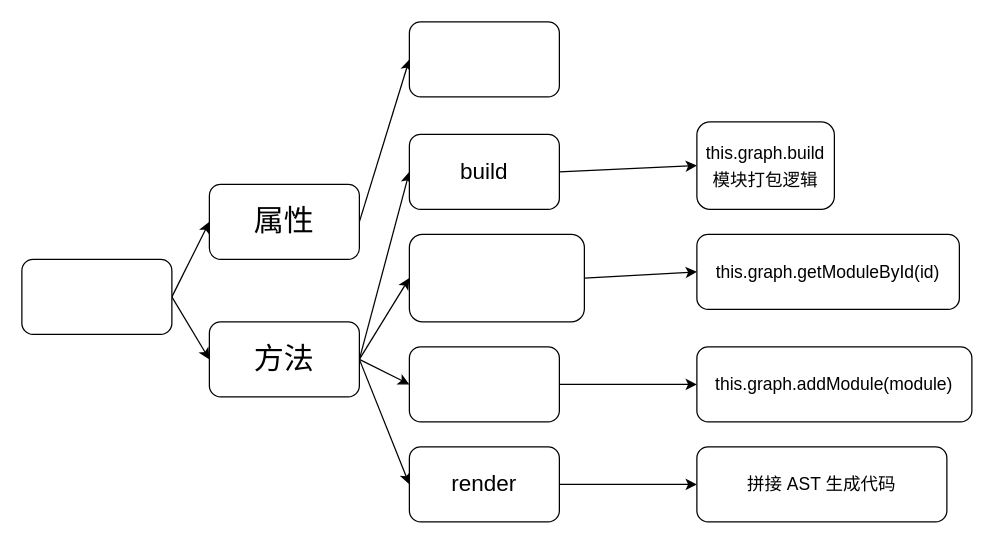
Some shapes in this 994 by 544 pixel diagram are drawn without their labels. Each missing label, with the box of its shape:
addModule: (408, 346, 559, 422)
Bundler: (21, 258, 172, 334)
getModuleById: (408, 233, 584, 322)
graph初始化依赖图: (408, 21, 559, 97)
